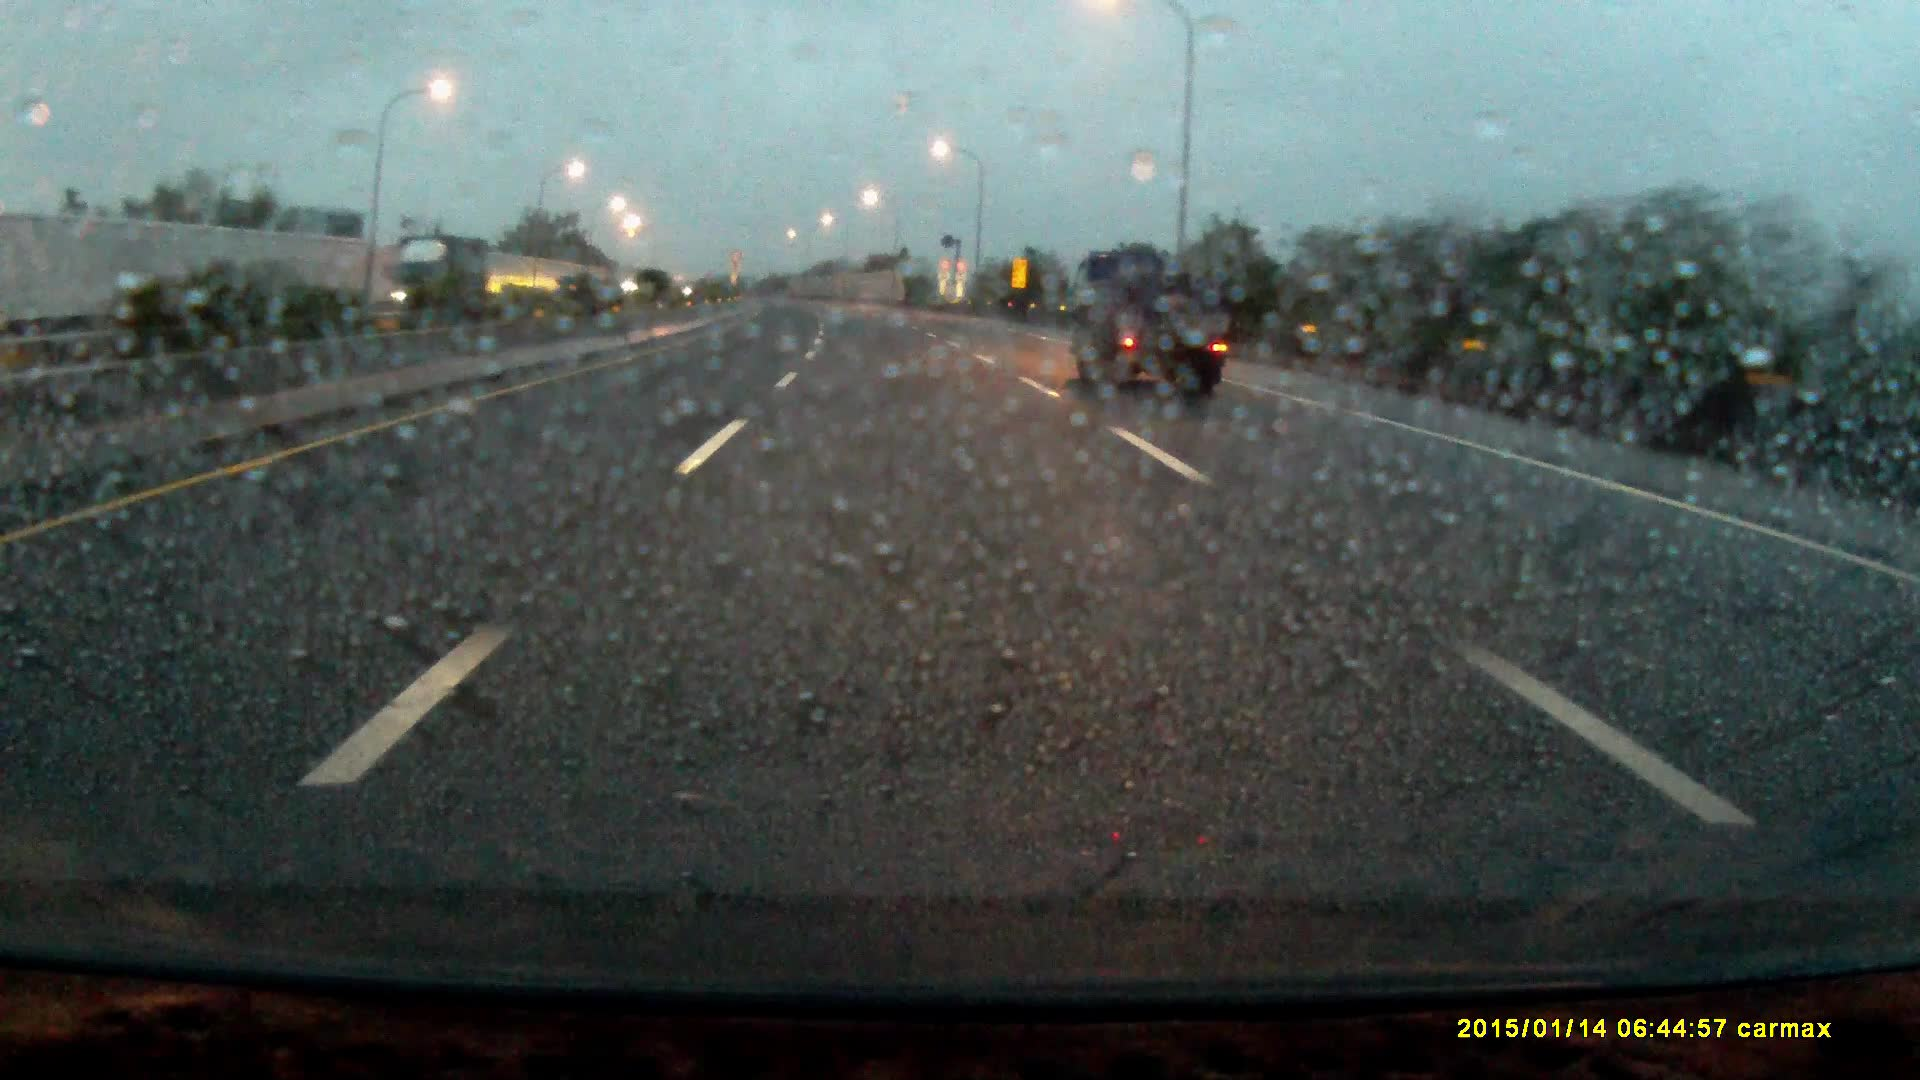vehicle: (1067, 251, 1222, 404), (389, 237, 489, 330)
